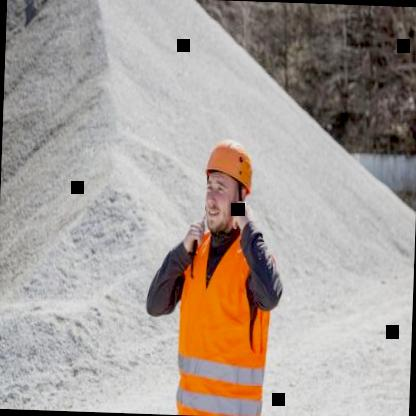helmet: (197, 127, 262, 240)
